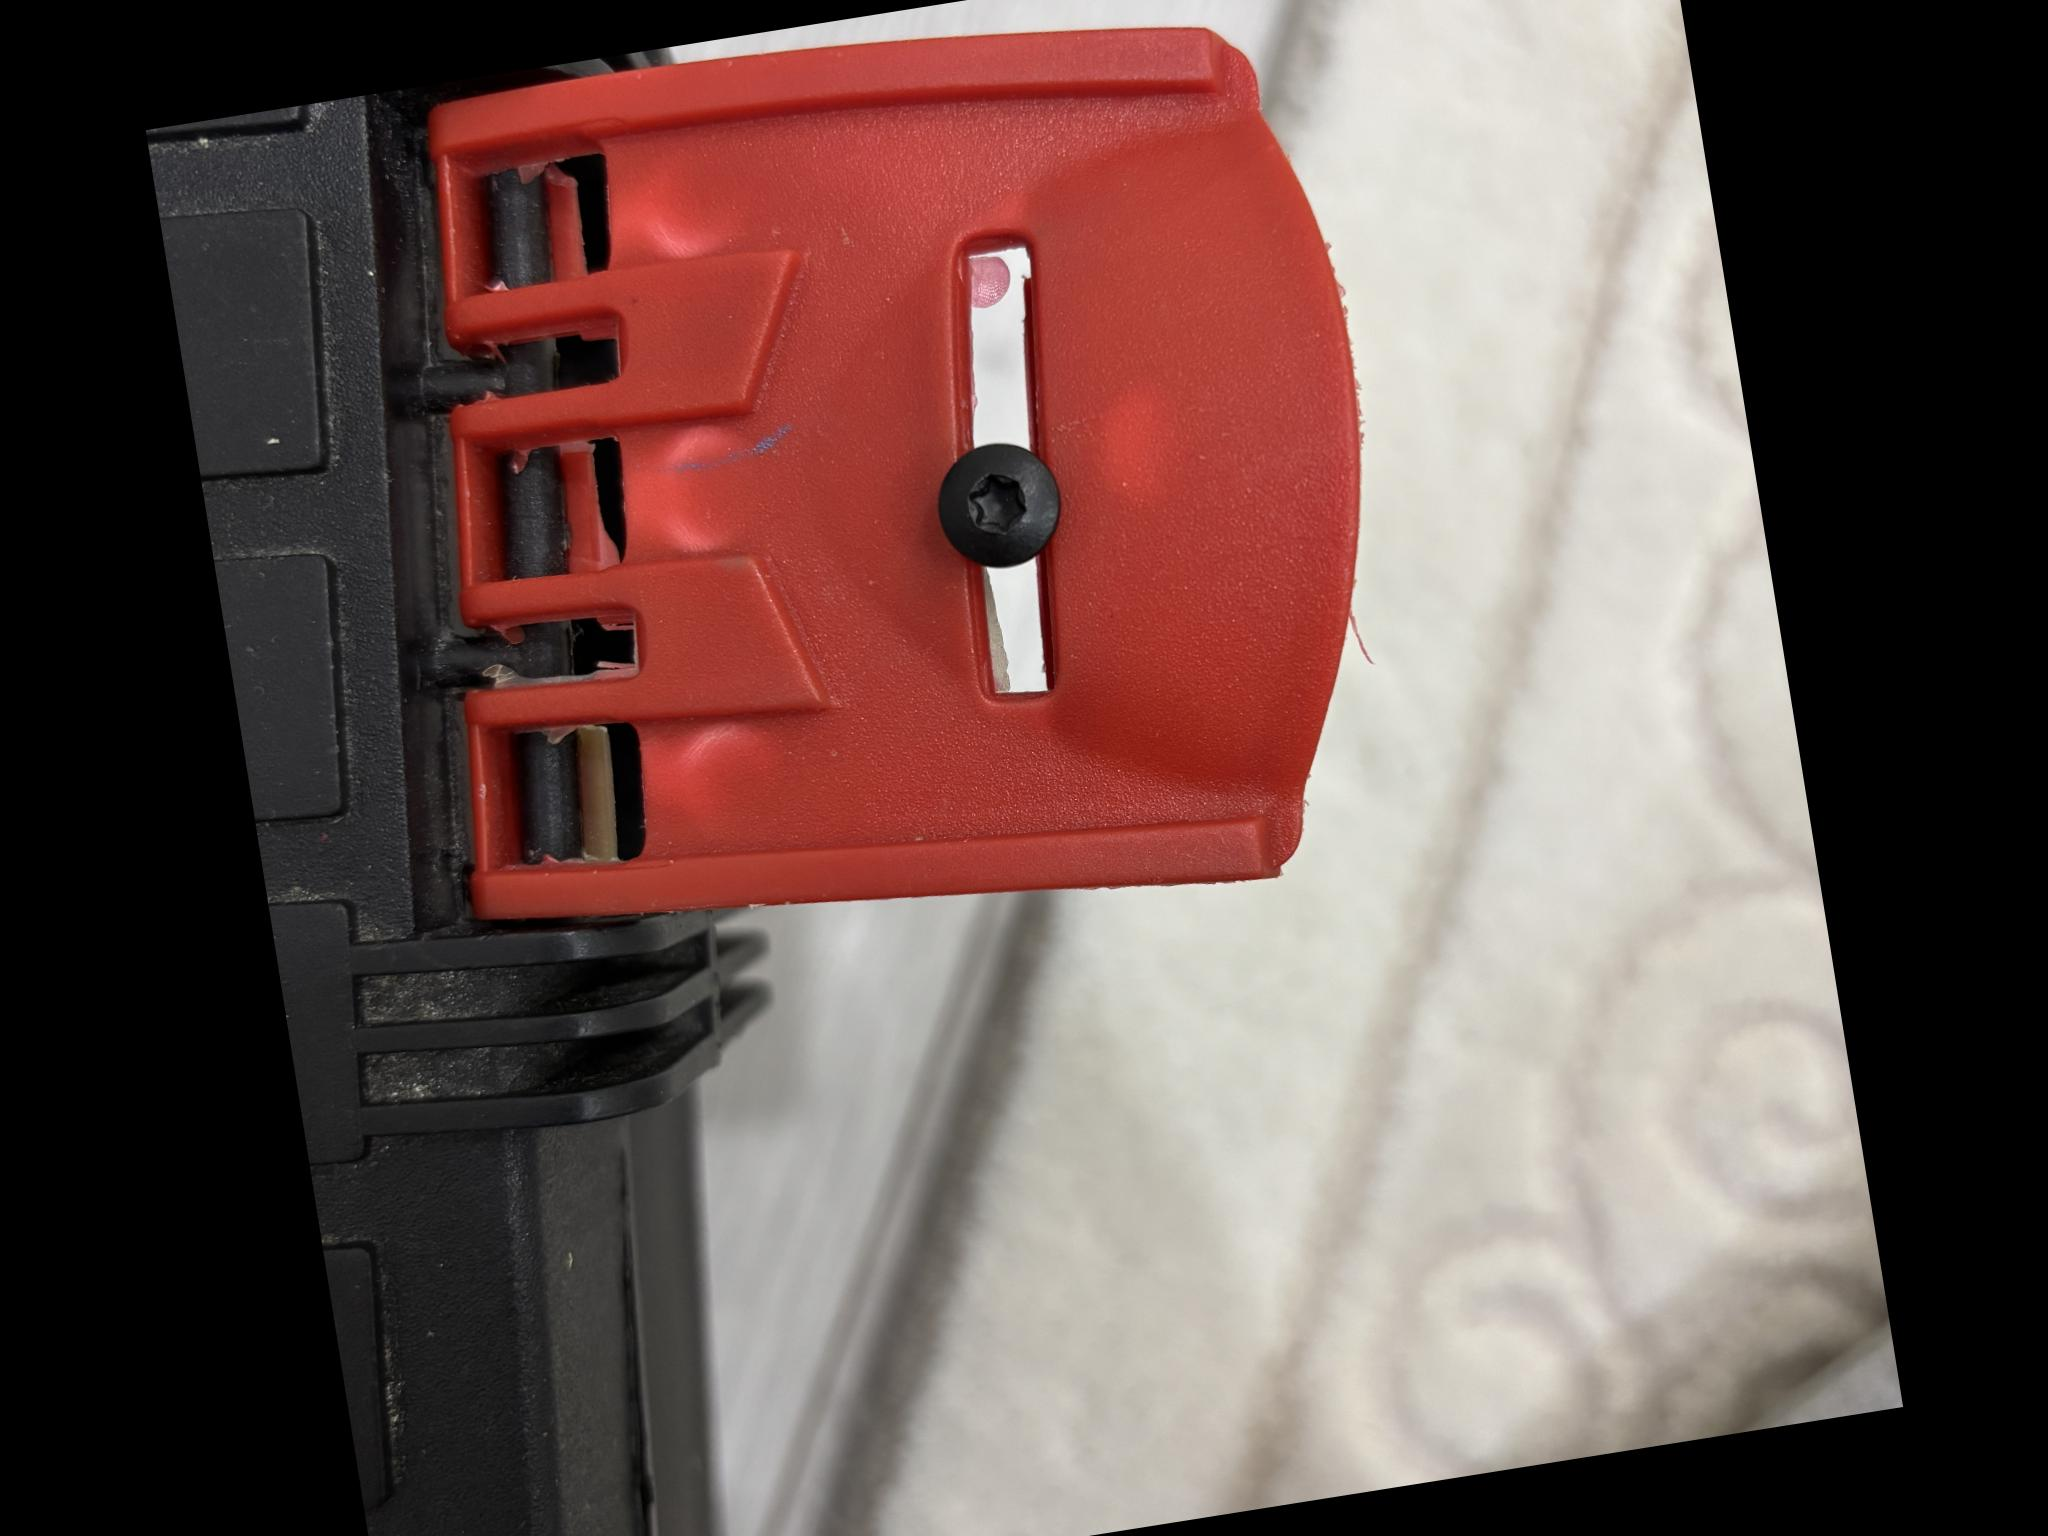T: (930, 468, 1058, 591)
